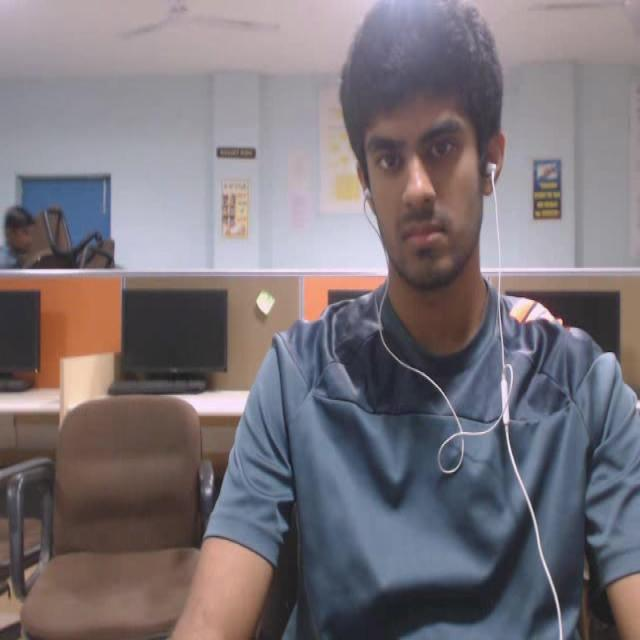Engaged: (314, 0, 520, 303)
